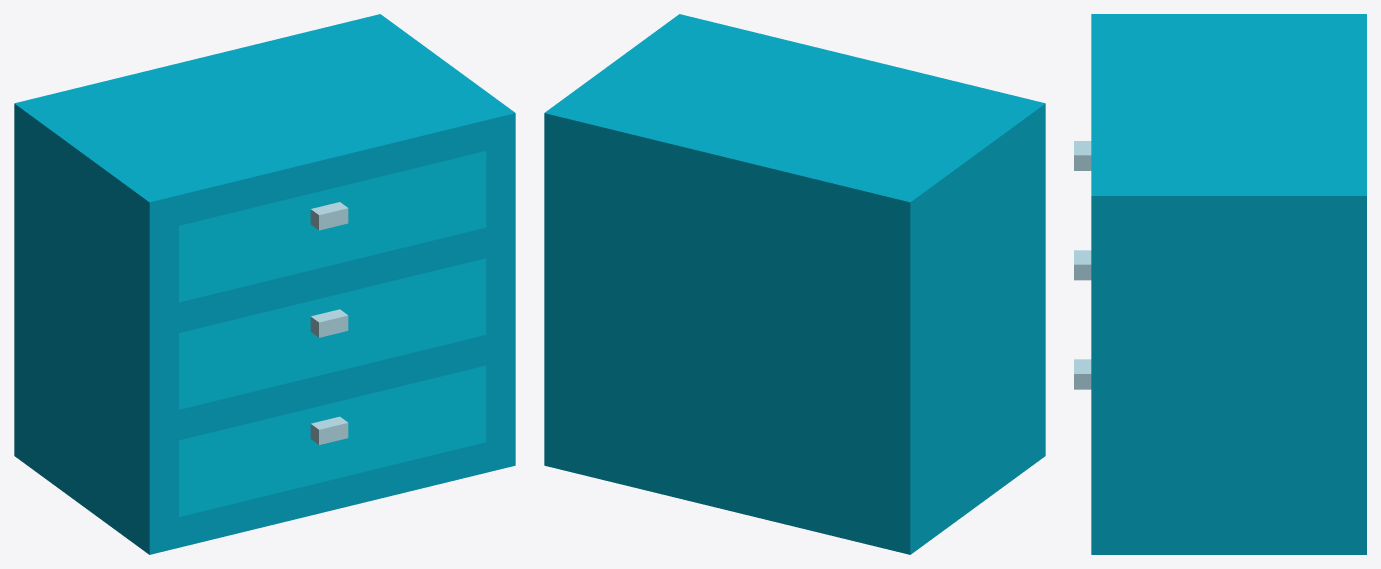
Rendered from Dresser.glb.
3 views of the same model, side by side, from view 1: azimuth 30°, elevation 25°; view 2: azimuth 150°, elevation 25°; view 3: azimuth 270°, elevation 25° (orthographic).
Parts seen in each view (by area): view 1: Dresser Top Layer, Dresser Leftframe, Dresser Top Storage, Dresser Middle Storage, Dresser Bottom Storage, Dresser Second Bottom Layer, Dresser Bottom Layer, Dresser Rightframe, Dresser Second Top Layer, Dresser Backframe, Dresser Middle Pullout, Dresser Top Pullout (+1 smaller); view 2: Dresser Backframe, Dresser Top Layer, Dresser Leftframe, Dresser Second Bottom Layer, Dresser Second Top Layer, Dresser Bottom Layer, Dresser Rightframe; view 3: Dresser Rightframe, Dresser Top Layer, Dresser Backframe, Dresser Leftframe, Dresser Second Bottom Layer, Dresser Second Top Layer, Dresser Bottom Layer, Dresser Bottom Pullout, Dresser Middle Pullout, Dresser Top Pullout.
Boxes of the visible parts, bbox=[...] form: Dresser Top Layer: bbox=[14, 14, 515, 232]; Dresser Leftframe: bbox=[14, 96, 178, 554]; Dresser Top Storage: bbox=[179, 151, 486, 302]; Dresser Middle Storage: bbox=[179, 258, 486, 409]; Dresser Bottom Storage: bbox=[179, 365, 486, 516]; Dresser Second Bottom Layer: bbox=[14, 321, 515, 446]; Dresser Bottom Layer: bbox=[14, 425, 515, 554]; Dresser Rightframe: bbox=[351, 15, 515, 472]; Dresser Second Top Layer: bbox=[14, 218, 500, 334]; Dresser Backframe: bbox=[14, 14, 396, 467]; Dresser Middle Pullout: bbox=[310, 309, 348, 337]; Dresser Top Pullout: bbox=[310, 202, 348, 230]; Dresser Backframe: bbox=[544, 101, 927, 554]; Dresser Top Layer: bbox=[544, 14, 1045, 232]; Dresser Leftframe: bbox=[881, 102, 1045, 554]; Dresser Second Bottom Layer: bbox=[544, 318, 1045, 447]; Dresser Second Top Layer: bbox=[544, 211, 1045, 339]; Dresser Bottom Layer: bbox=[544, 425, 1045, 554]; Dresser Rightframe: bbox=[544, 14, 705, 467]; Dresser Rightframe: bbox=[1091, 181, 1366, 554]; Dresser Top Layer: bbox=[1091, 14, 1366, 227]; Dresser Backframe: bbox=[1332, 14, 1366, 554]; Dresser Leftframe: bbox=[1091, 14, 1366, 28]; Dresser Second Bottom Layer: bbox=[1094, 414, 1366, 445]; Dresser Second Top Layer: bbox=[1091, 305, 1366, 336]; Dresser Bottom Layer: bbox=[1091, 523, 1366, 554]; Dresser Bottom Pullout: bbox=[1074, 359, 1091, 389]; Dresser Middle Pullout: bbox=[1074, 250, 1091, 280]; Dresser Top Pullout: bbox=[1074, 141, 1091, 170].
Bounding box in the file's own units: 79.38 × 73.03 × 53.98.
